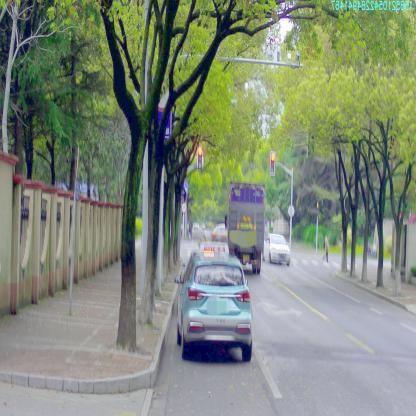traffic-light: (270, 151, 276, 173), (198, 146, 203, 168)
